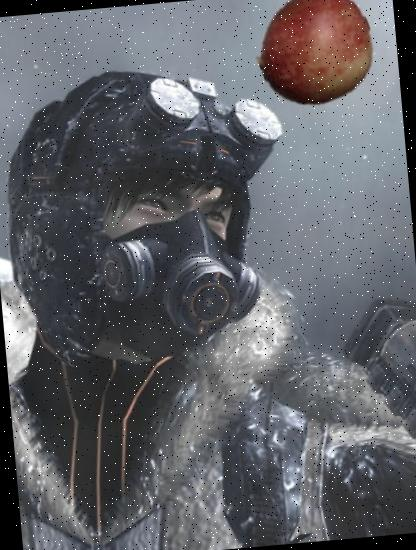Nectarine: (251, 0, 379, 113)
